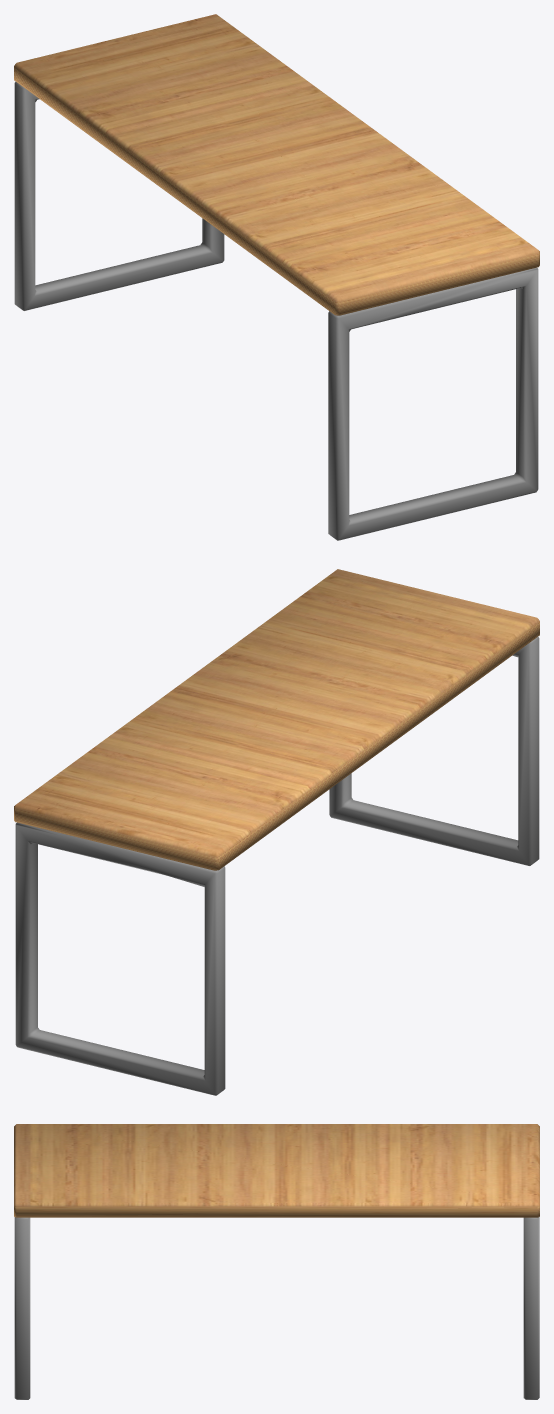
File: bangongzhuo.obj
The picture shows the model from 3 angles, top to bottom: view 1: azimuth 30°, elevation 25°; view 2: azimuth 150°, elevation 25°; view 3: azimuth 270°, elevation 25°; orthographic projection. The views are drawn at different scales.
Visible parts, largest first — view 1: Box1768, Rectangle006, Rectangle007; view 2: Box1768, Rectangle007, Rectangle006; view 3: Box1768, Rectangle006, Rectangle007.
Part boxes in pixels (bbox=[...]): Box1768: bbox=[14, 14, 539, 315]; Rectangle006: bbox=[328, 267, 538, 540]; Rectangle007: bbox=[14, 81, 224, 310]; Box1768: bbox=[14, 569, 539, 870]; Rectangle007: bbox=[15, 822, 225, 1095]; Rectangle006: bbox=[329, 637, 539, 865]; Box1768: bbox=[14, 1124, 539, 1217]; Rectangle006: bbox=[14, 1217, 30, 1399]; Rectangle007: bbox=[523, 1217, 539, 1399].
Size of the model in its own units: 75.5 by 85.63 by 207.
Materials: 2 (1 with a texture image).
